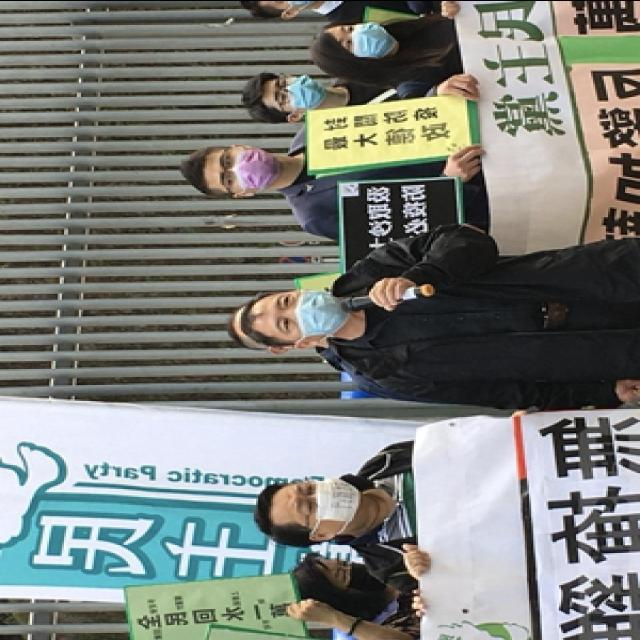mask: (269, 286, 350, 340), (286, 478, 358, 530), (210, 146, 280, 190), (266, 72, 324, 110), (326, 555, 384, 592), (335, 22, 397, 54)
